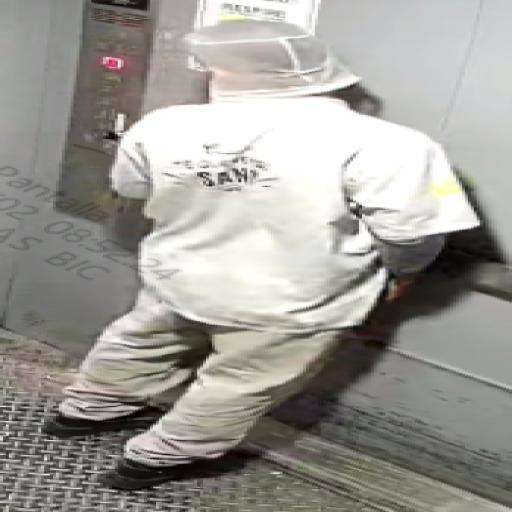persona: (12, 6, 512, 512)
